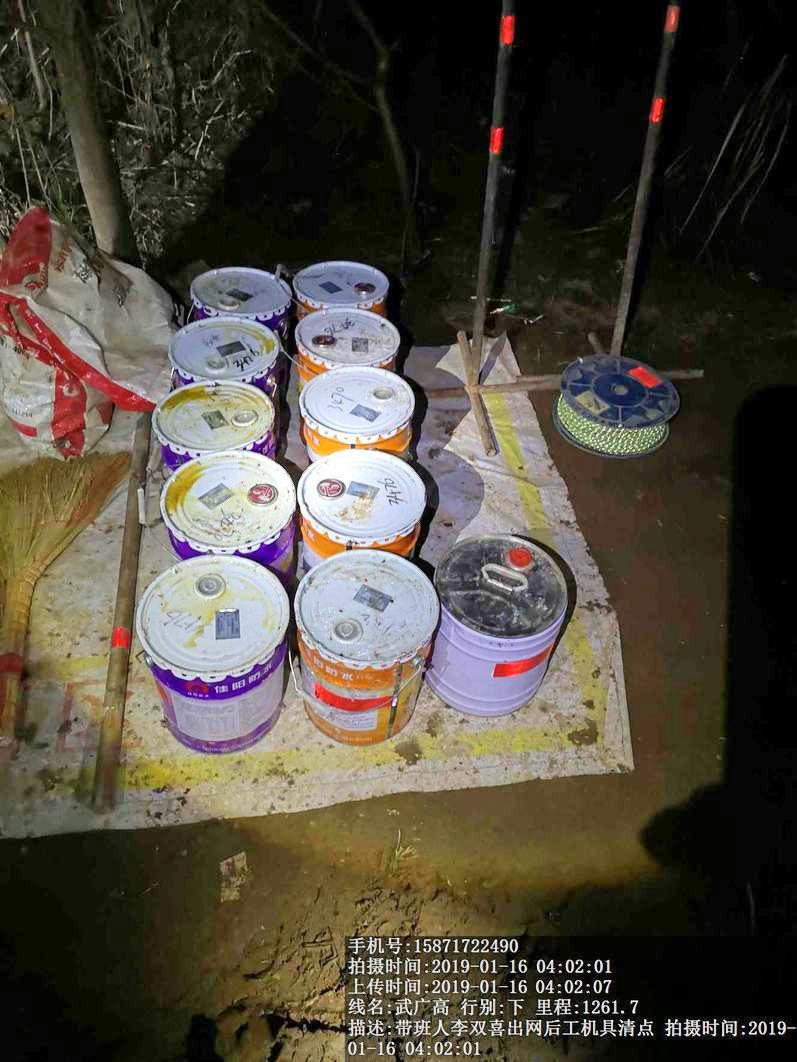SB: (1, 450, 132, 739)
